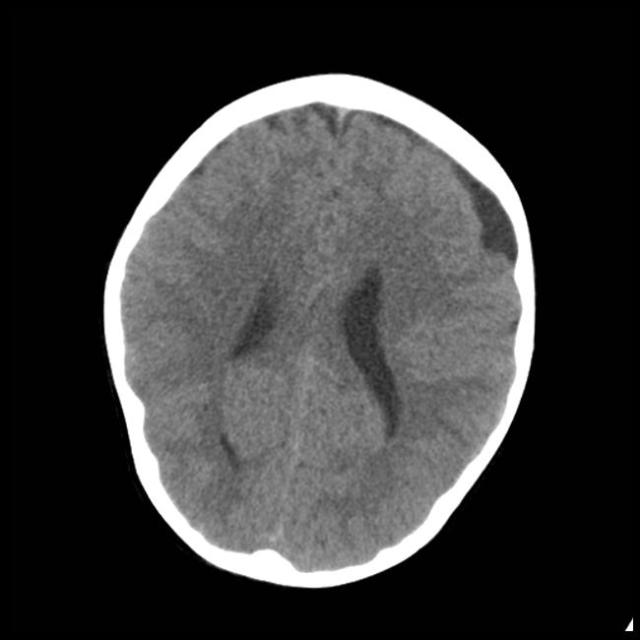lesion: (106, 89, 534, 582)
